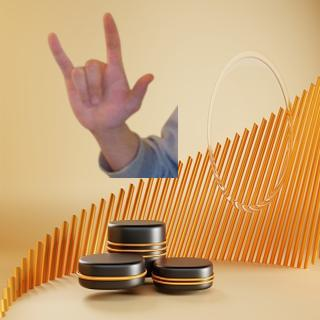ILY: (43, 9, 158, 133)
